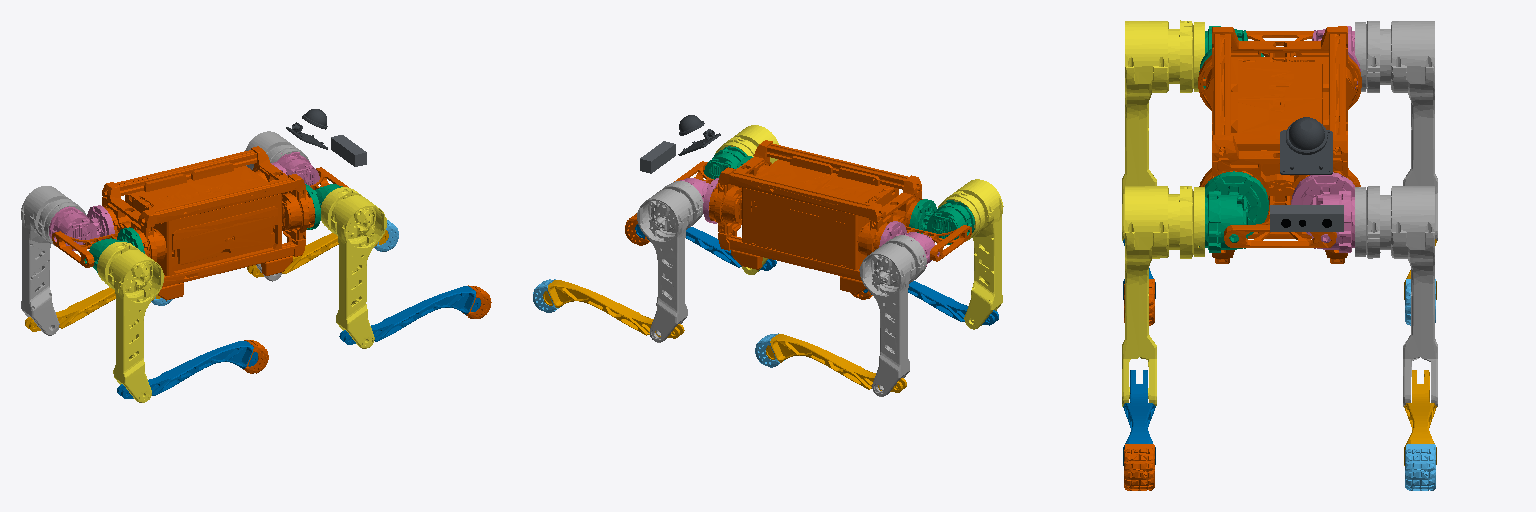
robot.urdf — bpx:
<?xml version="1.0"?>
<robot name="bpx">
  <link name="base_link" />
  <joint name="base_to_torso" type="fixed">
    <parent link="base_link" />
    <child link="torso" />
  </joint>
  <link name="livox_frame">
    <visual>
      <origin xyz="0 0 0" rpy="1.5707963 0 3.14159265359" />
      <geometry>
        <mesh filename="package://dog_description/simply_mesh/mid360.obj" />
      </geometry>
      <material name="livox_mid360">
        <color rgba="0.28 0.30 0.32 1" />
      </material>
    </visual>
    <collision>
      <origin xyz="0 0 -0.017" rpy="1.5707963 0 0" />
      <geometry>
        <box size="0.065 0.065 0.06" />
      </geometry>
    </collision>
    <inertial>
      <origin xyz="0 0 -0.017" rpy="1.5707963 0 0" />
      <mass value="0.265" />
      <inertia ixx="0.000172802" ixy="0" ixz="0" iyy="0.000172802" iyz="0" izz="0.000186604" />
    </inertial>
  </link>
  <joint name="torso_to_livox" type="fixed">
    <parent link="torso" />
    <child link="livox_frame" />
    <origin xyz="0.25 0 0.12" rpy="0 0.523599 0" />
  </joint>
  <link name="livox_imu" />
  <joint name="livox_to_imu" type="fixed">
    <parent link="livox_frame" />
    <child link="livox_imu" />
    <!-- Stationary gravity calibration: roll +0.854 deg, pitch -0.792 deg. -->
    <origin xyz="0.011 0.02329 -0.04412" rpy="0.014905 -0.013823 0" />
  </joint>
  <link name="camera_link">
    <visual>
      <origin xyz="0.012525 0 0" rpy="0 0 0" />
      <geometry>
        <box size="0.02505 0.09 0.025" />
      </geometry>
      <material name="realsense_aluminum">
        <color rgba="0.38 0.40 0.42 1" />
      </material>
    </visual>
    <visual>
      <origin xyz="0.02555 0.025 0" rpy="0 1.57079632679 0" />
      <geometry>
        <cylinder radius="0.006" length="0.001" />
      </geometry>
      <material name="realsense_lens">
        <color rgba="0.025 0.03 0.035 1" />
      </material>
    </visual>
    <visual>
      <origin xyz="0.02555 -0.025 0" rpy="0 1.57079632679 0" />
      <geometry>
        <cylinder radius="0.006" length="0.001" />
      </geometry>
      <material name="realsense_lens" />
    </visual>
    <visual>
      <origin xyz="0.02555 -0.005 0" rpy="0 1.57079632679 0" />
      <geometry>
        <cylinder radius="0.0045" length="0.001" />
      </geometry>
      <material name="realsense_lens" />
    </visual>
    <collision>
      <origin xyz="0.012525 0 0" rpy="0 0 0" />
      <geometry>
        <box size="0.02505 0.09 0.025" />
      </geometry>
    </collision>
  </link>
  <joint name="livox_to_camera" type="fixed">
    <parent link="livox_frame" />
    <child link="camera_link" />
    <!-- <origin xyz="0.055 0 -0.03" rpy="0 0 0" /> -->
    <origin xyz="0.094303 0.0325 -0.029908" rpy="0 -0.5236 0" /> 
  </joint>
  <link name="camera_color_optical_frame" />
  <joint name="camera_to_color_optical" type="fixed">
    <parent link="camera_link" />
    <child link="camera_color_optical_frame" />
    <origin xyz="0 0 0" rpy="-1.57079632679 0 -1.57079632679" />
  </joint>
  <link name="torso">
    <visual>
      <origin xyz="0 0 0" rpy="0 0 0" />
      <geometry>
        <mesh filename="package://dog_description/simply_mesh/torso.obj" />
      </geometry>
    </visual>
    <collision>
      <origin xyz="0 0 0" rpy="0 0 0" />
      <geometry>
        <box size="0.3412 0.16 0.1582" />
      </geometry>
    </collision>
    <collision>
      <origin xyz="0 0 -0.09" rpy="0 0 0" />
      <geometry>
        <box size="0.3412 0.16 0.028" />
      </geometry>
    </collision>
    <collision>
      <origin xyz="0.28 0 0" rpy="0 0 0" />
      <geometry>
        <box size="0.01329 0.136 0.026" />
      </geometry>
    </collision>
    <collision>
      <origin xyz="-0.28 0 0" rpy="0 0 0" />
      <geometry>
        <box size="0.01329 0.136 0.026" />
      </geometry>
    </collision>
    <inertial>
      <origin xyz="0.0151448 0.0033341 -0.0031076" rpy="0 0 0" />
      <mass value="6.829" />
      <inertia ixx="0.0291671" ixy="0.0019891" ixz="0.0003146" iyy="0.1285119" iyz="0.0000812" izz="0.1380718" />
    </inertial>
  </link>
  <link name="fl_hip_link">
    <visual>
      <origin xyz="0 0 0" rpy="0 0 0" />
      <geometry>
        <mesh filename="package://dog_description/simply_mesh/hip.obj" />
      </geometry>
    </visual>
    <inertial>
      <origin xyz="-0.0116642 0.0141251 0.000331" rpy="0 0 0" />
      <mass value="0.554" />
      <inertia ixx="0.00033" ixy="0.00004" ixz="0" iyy="0.00042" iyz="0" izz="0.000375" />
    </inertial>
  </link>
  <link name="fl_thigh_link">
    <visual>
      <origin xyz="0 0 0" rpy="0 0 0" />
      <geometry>
        <mesh filename="package://dog_description/simply_mesh/l_thigh.obj" />
      </geometry>
    </visual>
    <collision>
      <origin xyz="0 -0.02482 0" rpy="-1.5707963 0 0" />
      <geometry>
        <cylinder radius="0.044" length="0.08" />
      </geometry>
    </collision>
    <collision>
      <origin xyz="-0.02 0.0017152 -0.11" rpy="-1.5707963 0 0" />
      <geometry>
        <box size="0.045 0.13 0.029" />
      </geometry>
    </collision>
    <inertial>
      <origin xyz="-0.003 -0.021 -0.05052" rpy="0 0 0" />
      <mass value="1.213" />
      <inertia ixx="0.0083046" ixy="-0.0000872" ixz="0.0003596" iyy="0.008163" iyz="-0.0013242" izz="0.0013678" />
    </inertial>
  </link>
  <link name="fl_calf_link">
    <visual>
      <origin xyz="0 0 0" rpy="0 0 0" />
      <geometry>
        <mesh filename="package://dog_description/simply_mesh/calf.obj" />
      </geometry>
    </visual>
    <collision>
      <origin xyz="0.01 0 -0.1" rpy="0 -0.1396263 0" />
      <geometry>
        <box size="0.02 0.02 0.15" />
      </geometry>
    </collision>
    <collision>
      <origin xyz="0.011 0 -0.205" rpy="0 0.1221731 0" />
      <geometry>
        <box size="0.03 0.02 0.07" />
      </geometry>
    </collision>
    <inertial>
      <origin xyz="0.0057553 0 -0.10442" rpy="0 0 0" />
      <mass value="0.253" />
      <inertia ixx="0.00199" ixy="0" ixz="-0.0001442" iyy="0.00201" iyz="0" izz="0.00005" />
    </inertial>
  </link>
  <link name="fl_toe_link">
    <visual>
      <origin xyz="0 0 0" rpy="0 0 0" />
      <geometry>
        <mesh filename="package://dog_description/simply_mesh/toe.obj" />
      </geometry>
    </visual>
    <collision>
      <origin xyz="0 0 -0.012" rpy="-1.5707963 0 0" />
      <geometry>
        <cylinder radius="0.027" length="0.0358" />
      </geometry>
    </collision>
    <inertial>
      <origin xyz="-0.0089593 0 -0.014631" rpy="0 0 0" />
      <mass value="0.062" />
      <inertia ixx="0.000019" ixy="0" ixz="0.0000027" iyy="0.0000263" iyz="0" izz="0.0000225" />
    </inertial>
  </link>
  <link name="fr_hip_link">
    <visual>
      <origin xyz="0 0 0" rpy="3.1416 0 0" />
      <geometry>
        <mesh filename="package://dog_description/simply_mesh/hip.obj" />
      </geometry>
    </visual>
    <inertial>
      <origin xyz="-0.0116642 -0.0141251 0.000331" rpy="0 0 0" />
      <mass value="0.554" />
      <inertia ixx="0.00033" ixy="-0.00004" ixz="0" iyy="0.00042" iyz="0" izz="0.000375" />
    </inertial>
  </link>
  <link name="fr_thigh_link">
    <visual>
      <origin xyz="0 0 0" rpy="0 0 0" />
      <geometry>
        <mesh filename="package://dog_description/simply_mesh/r_thigh.obj" />
      </geometry>
    </visual>
    <collision>
      <origin xyz="0 0.02482 0" rpy="-1.5707963 0 0" />
      <geometry>
        <cylinder radius="0.044" length="0.08" />
      </geometry>
    </collision>
    <collision>
      <origin xyz="-0.02 -0.0017152 -0.11" rpy="-1.5707963 0 0" />
      <geometry>
        <box size="0.045 0.13 0.029" />
      </geometry>
    </collision>
    <inertial>
      <origin xyz="-0.003 0.021 -0.05052" rpy="0 0 0" />
      <mass value="1.213" />
      <inertia ixx="0.0083046" ixy="0.0000872" ixz="0.0003596" iyy="0.008163" iyz="0.0013242" izz="0.0013678" />
    </inertial>
  </link>
  <link name="fr_calf_link">
    <visual>
      <origin xyz="0 0 0" rpy="0 0 0" />
      <geometry>
        <mesh filename="package://dog_description/simply_mesh/calf.obj" />
      </geometry>
    </visual>
    <collision>
      <origin xyz="0.01 0 -0.1" rpy="0 -0.1396263 0" />
      <geometry>
        <box size="0.02 0.02 0.15" />
      </geometry>
    </collision>
    <collision>
      <origin xyz="0.011 0 -0.205" rpy="0 0.1221731 0" />
      <geometry>
        <box size="0.03 0.02 0.07" />
      </geometry>
    </collision>
    <inertial>
      <origin xyz="0.0057553 0 -0.10442" rpy="0 0 0" />
      <mass value="0.253" />
      <inertia ixx="0.00199" ixy="0" ixz="-0.0001442" iyy="0.00201" iyz="0" izz="0.00005" />
    </inertial>
  </link>
  <link name="fr_toe_link">
    <visual>
      <origin xyz="0 0 0" rpy="0 0 0" />
      <geometry>
        <mesh filename="package://dog_description/simply_mesh/toe.obj" />
      </geometry>
    </visual>
    <collision>
      <origin xyz="0 0 -0.012" rpy="-1.5707963 0 0" />
      <geometry>
        <cylinder radius="0.027" length="0.0358" />
      </geometry>
    </collision>
    <inertial>
      <origin xyz="-0.0089593 0 -0.014631" rpy="0 0 0" />
      <mass value="0.062" />
      <inertia ixx="0.000019" ixy="0" ixz="0.0000027" iyy="0.0000263" iyz="0" izz="0.0000225" />
    </inertial>
  </link>
  <link name="hl_hip_link">
    <visual>
      <origin xyz="0 0 0" rpy="3.1416 0 3.1416" />
      <geometry>
        <mesh filename="package://dog_description/simply_mesh/hip.obj" />
      </geometry>
    </visual>
    <inertial>
      <origin xyz="-0.0116642 0.0141251 0.000331" rpy="0 0 0" />
      <mass value="0.554" />
      <inertia ixx="0.00033" ixy="0.00004" ixz="0" iyy="0.00042" iyz="0" izz="0.000375" />
    </inertial>
  </link>
  <link name="hl_thigh_link">
    <visual>
      <origin xyz="0 0 0" rpy="0 0 0" />
      <geometry>
        <mesh filename="package://dog_description/simply_mesh/l_thigh.obj" />
      </geometry>
    </visual>
    <collision>
      <origin xyz="0 -0.02482 0" rpy="-1.5707963 0 0" />
      <geometry>
        <cylinder radius="0.044" length="0.08" />
      </geometry>
    </collision>
    <collision>
      <origin xyz="-0.02 0.0017152 -0.11" rpy="-1.5707963 0 0" />
      <geometry>
        <box size="0.045 0.13 0.029" />
      </geometry>
    </collision>
    <inertial>
      <origin xyz="-0.003 -0.021 -0.05052" rpy="0 0 0" />
      <mass value="1.213" />
      <inertia ixx="0.0083046" ixy="-0.0000872" ixz="0.0003596" iyy="0.008163" iyz="-0.0013242" izz="0.0013678" />
    </inertial>
  </link>
  <link name="hl_calf_link">
    <visual>
      <origin xyz="0 0 0" rpy="0 0 0" />
      <geometry>
        <mesh filename="package://dog_description/simply_mesh/calf.obj" />
      </geometry>
    </visual>
    <collision>
      <origin xyz="0.01 0 -0.1" rpy="0 -0.1396263 0" />
      <geometry>
        <box size="0.02 0.02 0.15" />
      </geometry>
    </collision>
    <collision>
      <origin xyz="0.011 0 -0.205" rpy="0 0.1221731 0" />
      <geometry>
        <box size="0.03 0.02 0.07" />
      </geometry>
    </collision>
    <inertial>
      <origin xyz="0.0057553 0 -0.10442" rpy="0 0 0" />
      <mass value="0.253" />
      <inertia ixx="0.00199" ixy="0" ixz="-0.0001442" iyy="0.00201" iyz="0" izz="0.00005" />
    </inertial>
  </link>
  <link name="hl_toe_link">
    <visual>
      <origin xyz="0 0 0" rpy="0 0 0" />
      <geometry>
        <mesh filename="package://dog_description/simply_mesh/toe.obj" />
      </geometry>
    </visual>
    <collision>
      <origin xyz="0 0 -0.012" rpy="-1.5707963 0 0" />
      <geometry>
        <cylinder radius="0.027" length="0.0358" />
      </geometry>
    </collision>
    <inertial>
      <origin xyz="-0.0089593 0 -0.014631" rpy="0 0 0" />
      <mass value="0.062" />
      <inertia ixx="0.000019" ixy="0" ixz="0.0000027" iyy="0.0000263" iyz="0" izz="0.0000225" />
    </inertial>
  </link>
  <link name="hr_hip_link">
    <visual>
      <origin xyz="0 0 0" rpy="0 0 3.1416" />
      <geometry>
        <mesh filename="package://dog_description/simply_mesh/hip.obj" />
      </geometry>
    </visual>
    <inertial>
      <origin xyz="-0.0116642 -0.0141251 0.000331" rpy="0 0 0" />
      <mass value="0.554" />
      <inertia ixx="0.00033" ixy="-0.00004" ixz="0" iyy="0.00042" iyz="0" izz="0.000375" />
    </inertial>
  </link>
  <link name="hr_thigh_link">
    <visual>
      <origin xyz="0 0 0" rpy="0 0 0" />
      <geometry>
        <mesh filename="package://dog_description/simply_mesh/r_thigh.obj" />
      </geometry>
    </visual>
    <collision>
      <origin xyz="0 0.02482 0" rpy="-1.5707963 0 0" />
      <geometry>
        <cylinder radius="0.044" length="0.08" />
      </geometry>
    </collision>
    <collision>
      <origin xyz="-0.02 -0.0017152 -0.11" rpy="-1.5707963 0 0" />
      <geometry>
        <box size="0.045 0.13 0.029" />
      </geometry>
    </collision>
    <inertial>
      <origin xyz="-0.003 0.021 -0.05052" rpy="0 0 0" />
      <mass value="1.213" />
      <inertia ixx="0.0083046" ixy="0.0000872" ixz="0.0003596" iyy="0.008163" iyz="0.0013242" izz="0.0013678" />
    </inertial>
  </link>
  <link name="hr_calf_link">
    <visual>
      <origin xyz="0 0 0" rpy="0 0 0" />
      <geometry>
        <mesh filename="package://dog_description/simply_mesh/calf.obj" />
      </geometry>
    </visual>
    <collision>
      <origin xyz="0.01 0 -0.1" rpy="0 -0.1396263 0" />
      <geometry>
        <box size="0.02 0.02 0.15" />
      </geometry>
    </collision>
    <collision>
      <origin xyz="0.011 0 -0.205" rpy="0 0.1221731 0" />
      <geometry>
        <box size="0.03 0.02 0.07" />
      </geometry>
    </collision>
    <inertial>
      <origin xyz="0.0057553 0 -0.10442" rpy="0 0 0" />
      <mass value="0.253" />
      <inertia ixx="0.00199" ixy="0" ixz="-0.0001442" iyy="0.00201" iyz="0" izz="0.00005" />
    </inertial>
  </link>
  <link name="hr_toe_link">
    <visual>
      <origin xyz="0 0 0" rpy="0 0 0" />
      <geometry>
        <mesh filename="package://dog_description/simply_mesh/toe.obj" />
      </geometry>
    </visual>
    <collision>
      <origin xyz="0 0 -0.012" rpy="-1.5707963 0 0" />
      <geometry>
        <cylinder radius="0.027" length="0.0358" />
      </geometry>
    </collision>
    <inertial>
      <origin xyz="-0.0089593 0 -0.014631" rpy="0 0 0" />
      <mass value="0.062" />
      <inertia ixx="0.000019" ixy="0" ixz="0.0000027" iyy="0.0000263" iyz="0" izz="0.0000225" />
    </inertial>
  </link>
  <joint name="fl_hip_roll_joint" type="revolute">
    <parent link="torso" />
    <child link="fl_hip_link" />
    <origin xyz="0.2386 0.056 0" rpy="0 0 0" />
    <axis xyz="1 0 0" />
    <limit lower="-0.8727" upper="0.8727" effort="30" velocity="20" />
  </joint>
  <joint name="fl_hip_pitch_joint" type="revolute">
    <parent link="fl_hip_link" />
    <child link="fl_thigh_link" />
    <origin xyz="0 0.11522 0" rpy="0 0 0" />
    <axis xyz="0 1 0" />
    <limit lower="-0.7854" upper="2.60661" effort="30" velocity="20" />
  </joint>
  <joint name="fl_knee_joint" type="revolute">
    <parent link="fl_thigh_link" />
    <child link="fl_calf_link" />
    <origin xyz="0 0 -0.23" rpy="0 0 0" />
    <axis xyz="0 1 0" />
    <limit lower="-2.7531" upper="-0.5539" effort="30" velocity="20" />
  </joint>
  <joint name="fl_ankle_joint" type="fixed" dont_collapse="true">
    <parent link="fl_calf_link" />
    <child link="fl_toe_link" />
    <origin xyz="0 0 -0.2315648" rpy="0 0 0" />
  </joint>
  <joint name="fr_hip_roll_joint" type="revolute">
    <parent link="torso" />
    <child link="fr_hip_link" />
    <origin xyz="0.2386 -0.056 0" rpy="0 0 0" />
    <axis xyz="1 0 0" />
    <limit lower="-0.8727" upper="0.8727" effort="30" velocity="20" />
  </joint>
  <joint name="fr_hip_pitch_joint" type="revolute">
    <parent link="fr_hip_link" />
    <child link="fr_thigh_link" />
    <origin xyz="0 -0.11522 0" rpy="0 0 0" />
    <axis xyz="0 1 0" />
    <limit lower="-0.7854" upper="2.60661" effort="30" velocity="20" />
  </joint>
  <joint name="fr_knee_joint" type="revolute">
    <parent link="fr_thigh_link" />
    <child link="fr_calf_link" />
    <origin xyz="0 0 -0.23" rpy="0 0 0" />
    <axis xyz="0 1 0" />
    <limit lower="-2.7531" upper="-0.5539" effort="30" velocity="20" />
  </joint>
  <joint name="fr_ankle_joint" type="fixed" dont_collapse="true">
    <parent link="fr_calf_link" />
    <child link="fr_toe_link" />
    <origin xyz="0 0 -0.2315648" rpy="0 0 0" />
  </joint>
  <joint name="hl_hip_roll_joint" type="revolute">
    <parent link="torso" />
    <child link="hl_hip_link" />
    <origin xyz="-0.2386 0.056 0" rpy="0 0 0" />
    <axis xyz="1 0 0" />
    <limit lower="-0.8727" upper="0.8727" effort="30" velocity="20" />
  </joint>
  <joint name="hl_hip_pitch_joint" type="revolute">
    <parent link="hl_hip_link" />
    <child link="hl_thigh_link" />
    <origin xyz="0 0.11522 0" rpy="0 0 0" />
    <axis xyz="0 1 0" />
    <limit lower="-0.7854" upper="2.60661" effort="30" velocity="20" />
  </joint>
  <joint name="hl_knee_joint" type="revolute">
    <parent link="hl_thigh_link" />
    <child link="hl_calf_link" />
    <origin xyz="0 0 -0.23" rpy="0 0 0" />
    <axis xyz="0 1 0" />
    <limit lower="-2.7531" upper="-0.5539" effort="30" velocity="20" />
  </joint>
  <joint name="hl_ankle_joint" type="fixed" dont_collapse="true">
    <parent link="hl_calf_link" />
    <child link="hl_toe_link" />
    <origin xyz="0 0 -0.2315648" rpy="0 0 0" />
  </joint>
  <joint name="hr_hip_roll_joint" type="revolute">
    <parent link="torso" />
    <child link="hr_hip_link" />
    <origin xyz="-0.2386 -0.056 0" rpy="0 0 0" />
    <axis xyz="1 0 0" />
    <limit lower="-0.8727" upper="0.8727" effort="30" velocity="20" />
  </joint>
  <joint name="hr_hip_pitch_joint" type="revolute">
    <parent link="hr_hip_link" />
    <child link="hr_thigh_link" />
    <origin xyz="0 -0.11522 0" rpy="0 0 0" />
    <axis xyz="0 1 0" />
    <limit lower="-0.7854" upper="2.60661" effort="30" velocity="20" />
  </joint>
  <joint name="hr_knee_joint" type="revolute">
    <parent link="hr_thigh_link" />
    <child link="hr_calf_link" />
    <origin xyz="0 0 -0.23" rpy="0 0 0" />
    <axis xyz="0 1 0" />
    <limit lower="-2.7531" upper="-0.5539" effort="30" velocity="20" />
  </joint>
  <joint name="hr_ankle_joint" type="fixed" dont_collapse="true">
    <parent link="hr_calf_link" />
    <child link="hr_toe_link" />
    <origin xyz="0 0 -0.2315648" rpy="0 0 0" />
  </joint>
</robot>

--- What the picture shows (computed from the rendered views, not written in the file) ---
Views: 3 orthographic renders of the robot side by side, from view 1: azimuth 30°, elevation 25°; view 2: azimuth 150°, elevation 25°; view 3: azimuth 270°, elevation 25°.
Robot: bpx — 22 links, 21 joints (12 revolute, 9 fixed); root link base_link; default pose: joints at zero except 4 at the middle of their limits (fl_knee_joint = -1.65, fr_knee_joint = -1.65, hl_knee_joint = -1.65, hr_knee_joint = -1.65).
Visible links, largest first — view 1: torso, hr_thigh_link, fr_thigh_link, hl_thigh_link, hr_calf_link, fr_calf_link, hl_hip_link, hl_calf_link, fl_thigh_link, fl_calf_link, fl_hip_link, camera_link (+2 smaller); view 2: torso, hl_thigh_link, fl_thigh_link, hr_thigh_link, fl_calf_link, hl_calf_link, hr_hip_link, hr_calf_link, fr_thigh_link, fr_calf_link, fr_hip_link, camera_link (+2 smaller); view 3: torso, fr_thigh_link, fl_thigh_link, hl_thigh_link, hr_thigh_link, fr_hip_link, livox_frame, fl_hip_link, camera_link, fl_calf_link, fr_calf_link, fl_toe_link (+1 smaller).
Link boxes in pixels (x1,y1,x2,y2): torso: [52, 146, 348, 300]; hr_thigh_link: [97, 242, 164, 402]; fr_thigh_link: [321, 187, 386, 348]; hl_thigh_link: [21, 186, 86, 335]; hr_calf_link: [117, 341, 257, 398]; fr_calf_link: [339, 286, 480, 344]; hl_hip_link: [49, 205, 114, 250]; hl_calf_link: [25, 287, 160, 331]; fl_thigh_link: [245, 131, 309, 281]; fl_calf_link: [247, 230, 388, 277]; fl_hip_link: [271, 152, 319, 185]; camera_link: [331, 135, 366, 166]; torso: [674, 140, 971, 293]; hl_thigh_link: [859, 235, 926, 396]; fl_thigh_link: [637, 181, 703, 342]; hr_thigh_link: [938, 179, 1003, 329]; fl_calf_link: [543, 280, 684, 338]; hl_calf_link: [766, 334, 906, 392]; hr_hip_link: [909, 199, 974, 244]; hr_calf_link: [863, 281, 998, 325]; fr_thigh_link: [715, 125, 778, 274]; fr_calf_link: [635, 224, 776, 270]; fr_hip_link: [704, 146, 752, 179]; camera_link: [640, 141, 675, 173]; torso: [1198, 26, 1361, 263]; fr_thigh_link: [1122, 186, 1204, 406]; fl_thigh_link: [1355, 186, 1437, 406]; hl_thigh_link: [1355, 21, 1437, 240]; hr_thigh_link: [1122, 20, 1204, 240]; fr_hip_link: [1199, 171, 1268, 252]; livox_frame: [1280, 117, 1332, 174]; fl_hip_link: [1291, 172, 1354, 252]; camera_link: [1270, 205, 1343, 231]; fl_calf_link: [1404, 370, 1436, 465]; fr_calf_link: [1123, 370, 1155, 465]; fl_toe_link: [1405, 444, 1435, 490].
Bounding box of the posed robot: 0.797 × 0.3858 × 0.3955 m (x, y, z).
18 mesh visuals loaded from 7 distinct referenced files (7 OBJ).
